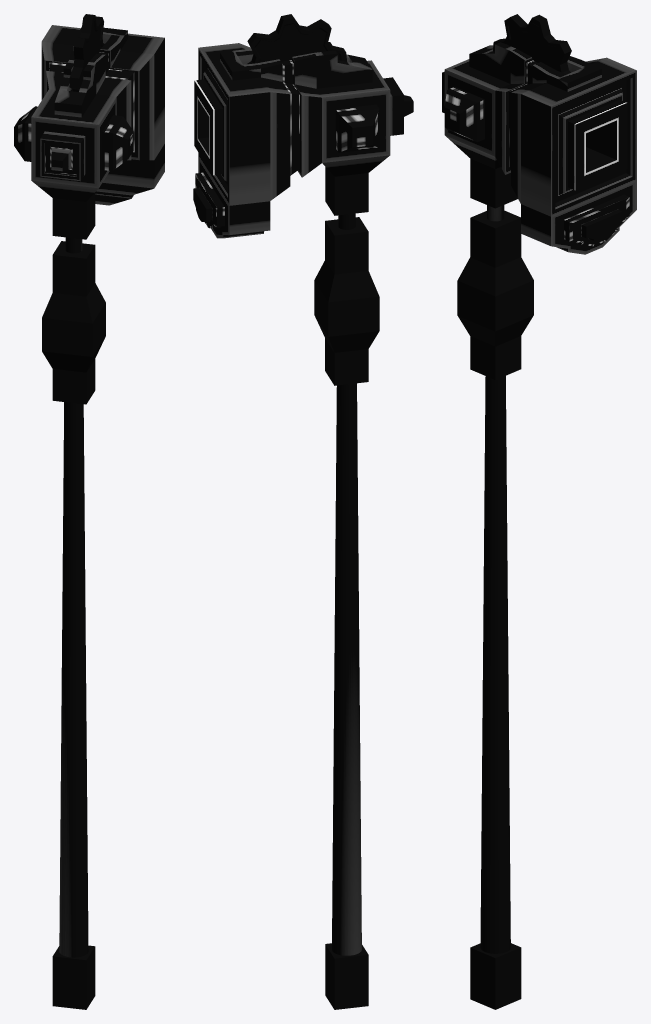
Rendered from Dispenser_2_0.fbx.
The picture shows the model from 3 angles, left to right: view 1: azimuth 30°, elevation 25°; view 2: azimuth 150°, elevation 25°; view 3: azimuth 270°, elevation 25°; orthographic projection. The views are drawn at different scales.
Parts seen in each view (by area): view 1: Dispenser, Dispenser_Prop_0, Dispenser_Prop_1, Gear; view 2: Dispenser, Dispenser_Prop_0, Dispenser_Prop_1, Gear; view 3: Dispenser, Dispenser_Prop_0, Dispenser_Prop_1, Gear.
Boxes of the visible parts, bbox=[...] form: Dispenser: bbox=[14, 25, 164, 205]; Dispenser_Prop_0: bbox=[52, 192, 95, 1009]; Dispenser_Prop_1: bbox=[42, 241, 105, 404]; Gear: bbox=[69, 14, 104, 91]; Dispenser: bbox=[193, 42, 413, 238]; Dispenser_Prop_0: bbox=[325, 167, 368, 1009]; Dispenser_Prop_1: bbox=[314, 217, 379, 385]; Gear: bbox=[246, 14, 346, 64]; Dispenser: bbox=[442, 42, 636, 254]; Dispenser_Prop_0: bbox=[470, 158, 521, 1009]; Dispenser_Prop_1: bbox=[457, 210, 533, 379]; Gear: bbox=[493, 14, 571, 74].
Size of the model in its own units: 1.6 by 9.08 by 1.6.
Materials: 1 (1 with a texture image).
